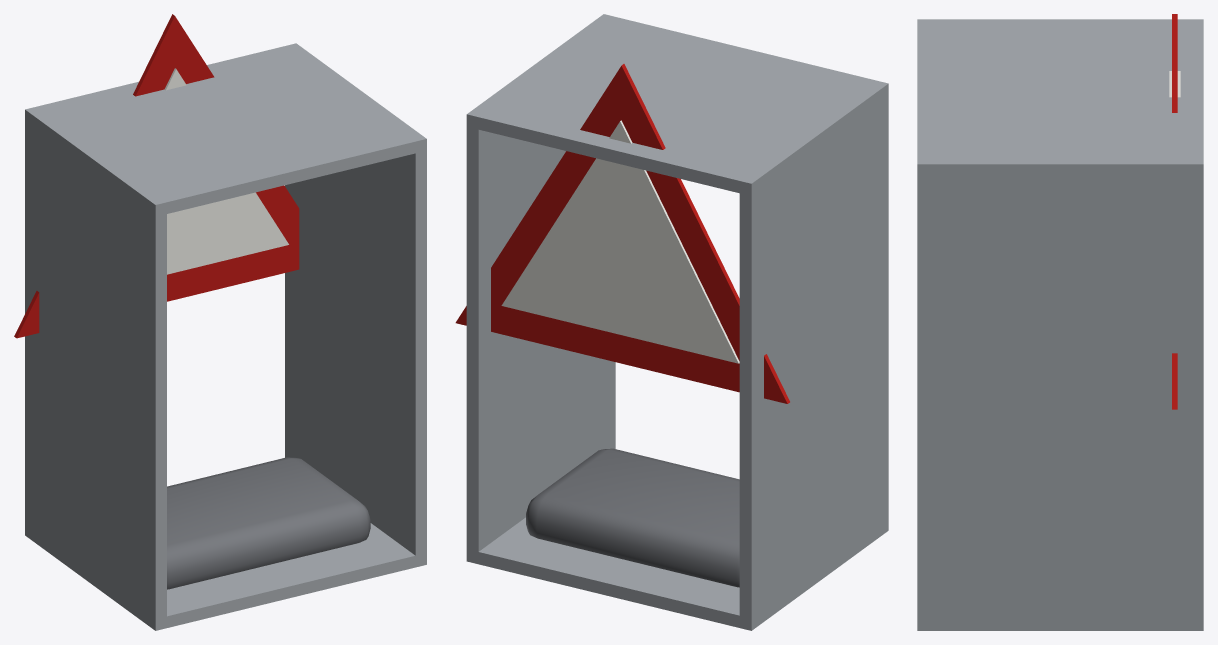
File: plant.fence.road_sign.glb
The picture shows the model from 3 angles, left to right: view 1: azimuth 30°, elevation 25°; view 2: azimuth 150°, elevation 25°; view 3: azimuth 270°, elevation 25°; orthographic projection. The views are drawn at different scales.
Visible parts, largest first — view 1: main__steel_galvanised, main__fabric_grey, main__hazard_red, main__paint_white; view 2: main__steel_galvanised, main__paint_white, main__hazard_red, main__fabric_grey; view 3: main__steel_galvanised, main__hazard_red.
Part boxes in pixels (left/top/right/bottom): main__steel_galvanised: left=25, top=43, right=426, bottom=630; main__fabric_grey: left=167, top=457, right=370, bottom=589; main__hazard_red: left=14, top=14, right=299, bottom=338; main__paint_white: left=164, top=68, right=288, bottom=274; main__steel_galvanised: left=466, top=14, right=888, bottom=630; main__paint_white: left=501, top=120, right=739, bottom=363; main__hazard_red: left=455, top=64, right=789, bottom=403; main__fabric_grey: left=526, top=448, right=739, bottom=587; main__steel_galvanised: left=917, top=19, right=1203, bottom=630; main__hazard_red: left=1172, top=14, right=1177, bottom=409.
Size of the model in its own units: 0.7 by 1.05 by 0.5.
